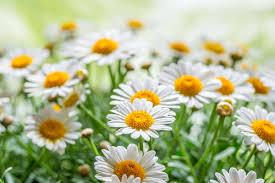chamomile: (95, 151, 159, 180), (28, 110, 73, 147), (28, 63, 74, 97), (167, 69, 209, 102), (116, 104, 161, 133), (80, 36, 121, 63), (245, 114, 275, 144), (7, 51, 45, 74), (116, 84, 164, 102), (219, 73, 250, 99)
